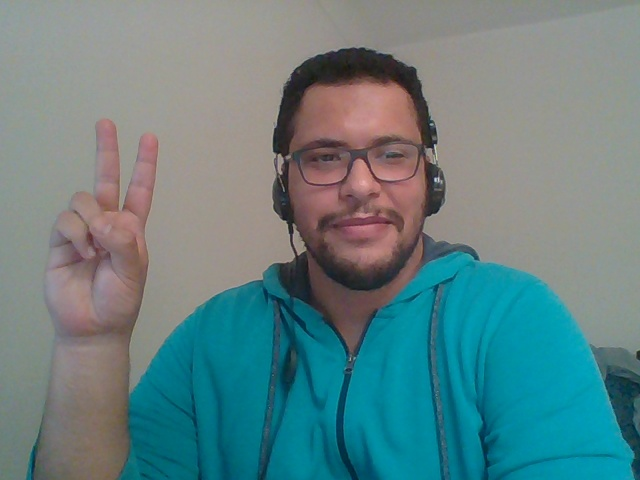vectory: (23, 105, 174, 352)
